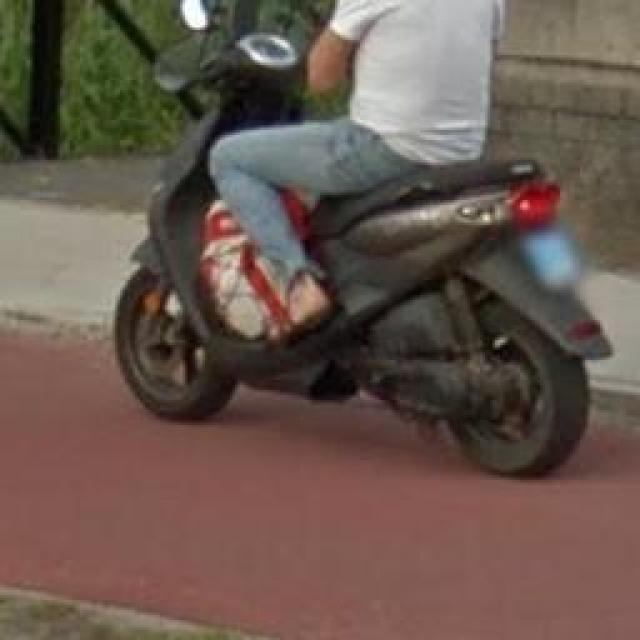Motor: (110, 5, 612, 480)
